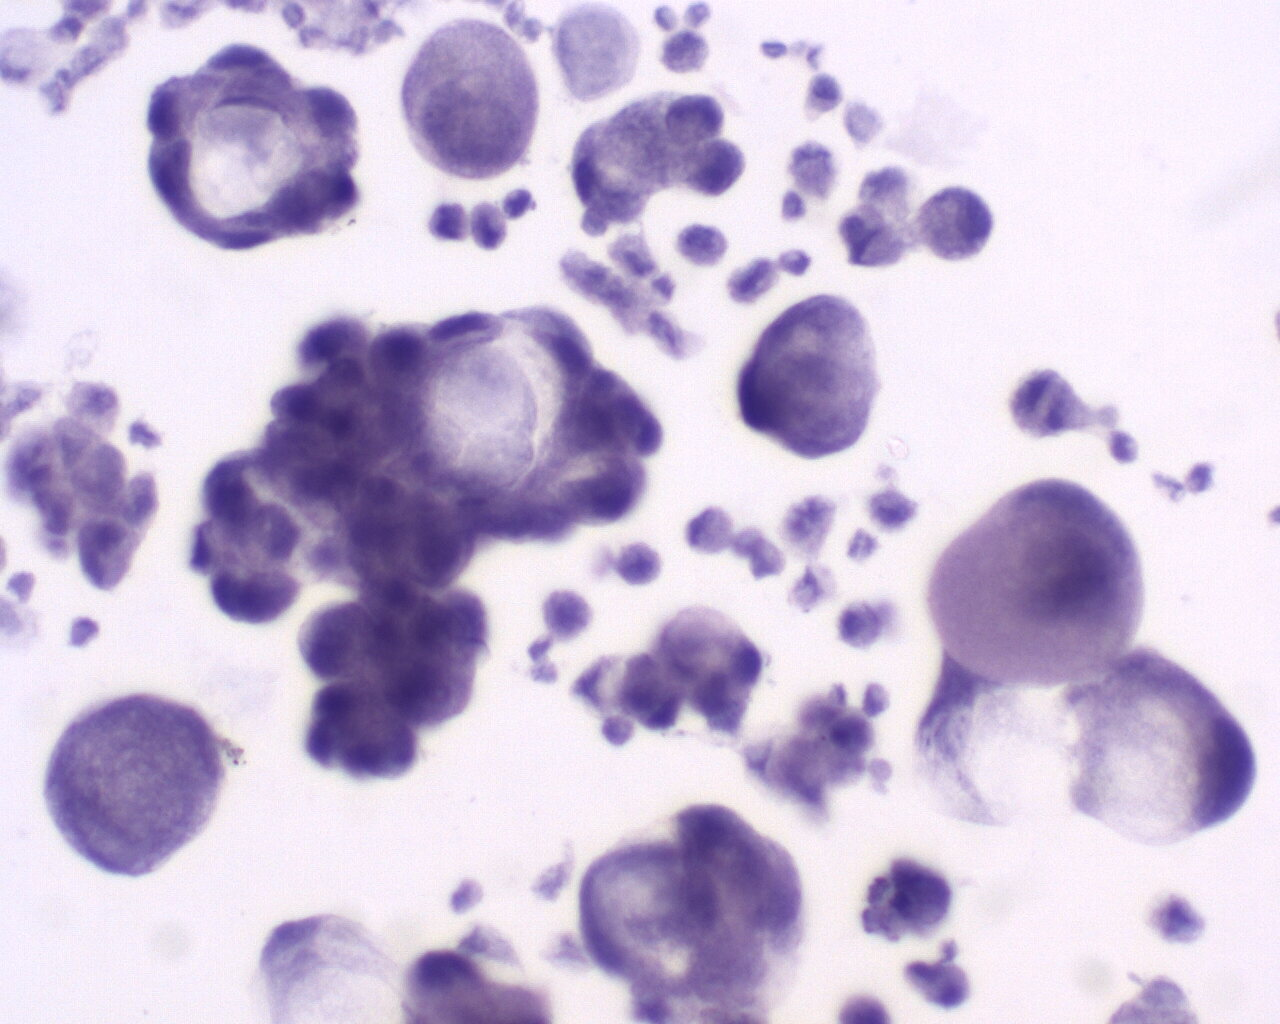ab: (925, 480, 1137, 686), (45, 693, 222, 884), (738, 294, 884, 459), (405, 15, 546, 177)
meso: (911, 179, 997, 261), (538, 584, 603, 645), (607, 535, 664, 589), (833, 600, 888, 653)
